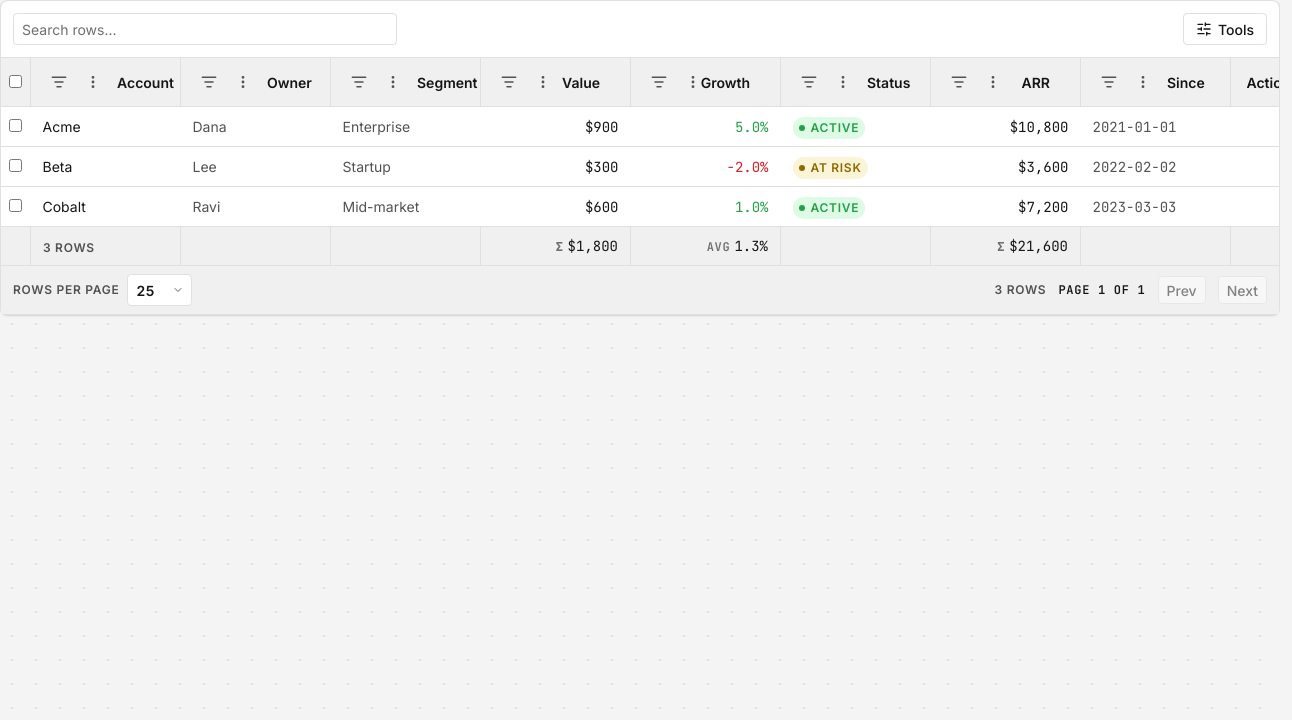
DataGrid row selection › header select-all checks every visible row, and clear empties the count
Click the checkbox named "select all".
click(16, 81)  # box [9,74,22,88]
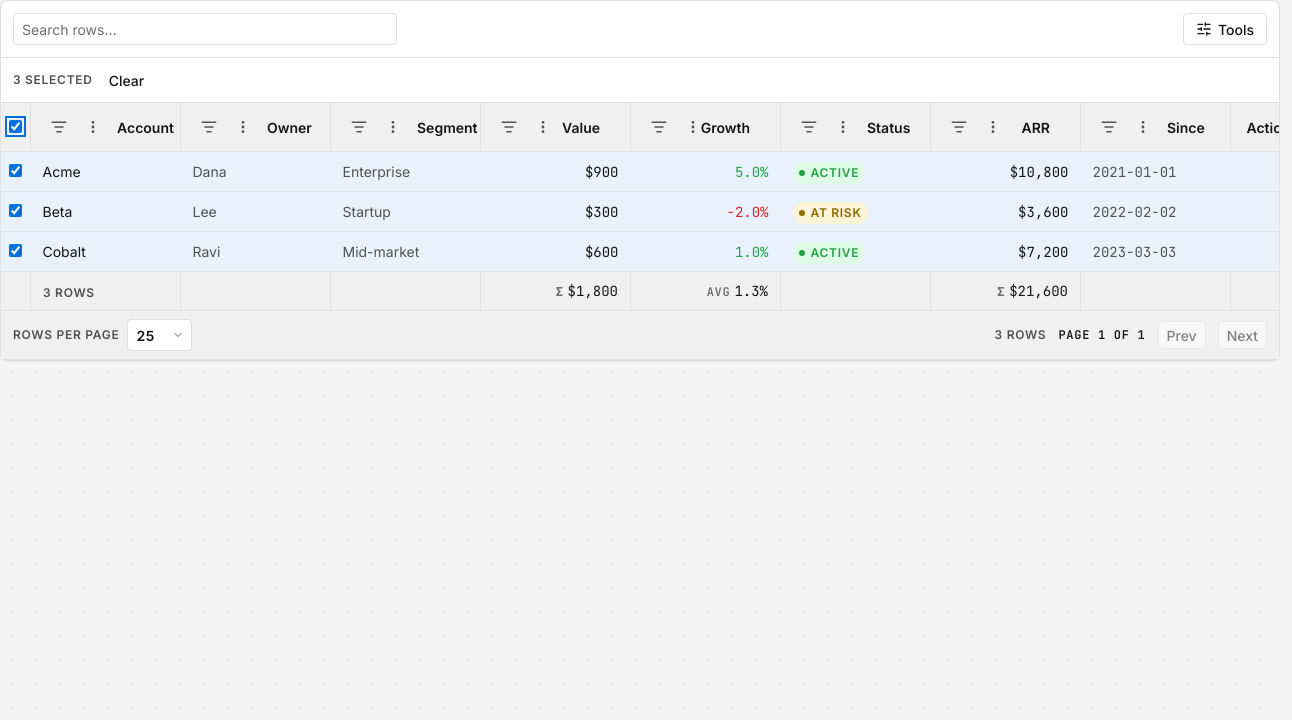
Check: the checkbox named "Select Acme" is checked, box [9,164,22,177]
Check: the checkbox named "Select Beta" is checked, box [9,204,22,217]
Check: the text "3 selected" is shown, box [13,71,93,89]
Click the button with aria-label "clear selection".
click(126, 80)  # box [101,66,152,94]
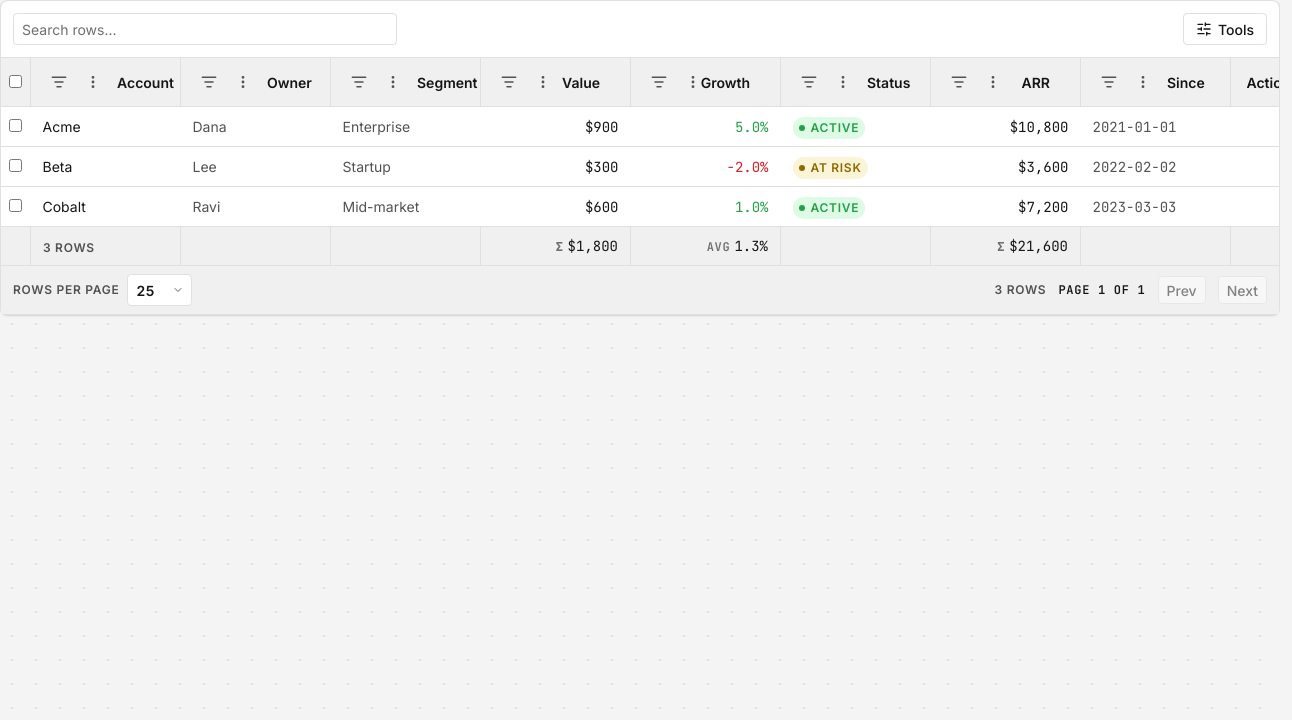
Check: the text "selected" is gone
Check: the checkbox named "Select Acme" is not checked, box [9,119,22,132]
